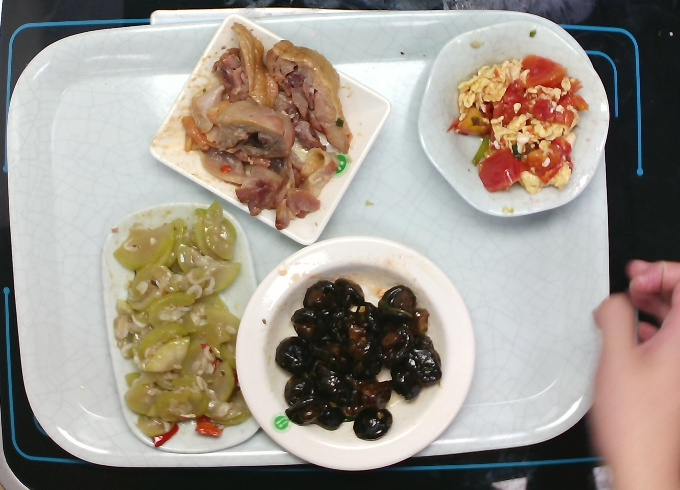WCQzf-Bai_Se_Si_Fang_Die: (145, 12, 395, 247)
WCQzf-Hua_Duo_Wan: (412, 17, 612, 221)
WCQzf-Kuan_Bian_Yuan_Die: (232, 231, 480, 476)
WCQzf-Tuo_Yuan_Pan: (93, 197, 274, 458)
